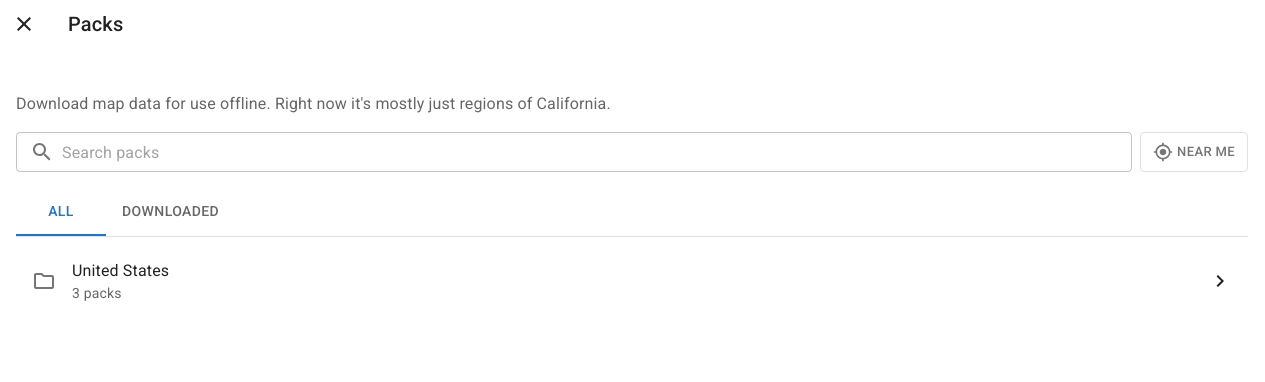
Test case: Packs › when packs are nested › leaves a pack that has packs inside it to be downloaded from inside
The image size is (1265, 382).
Click the text "United States" at (121, 270), box [72, 261, 169, 280]
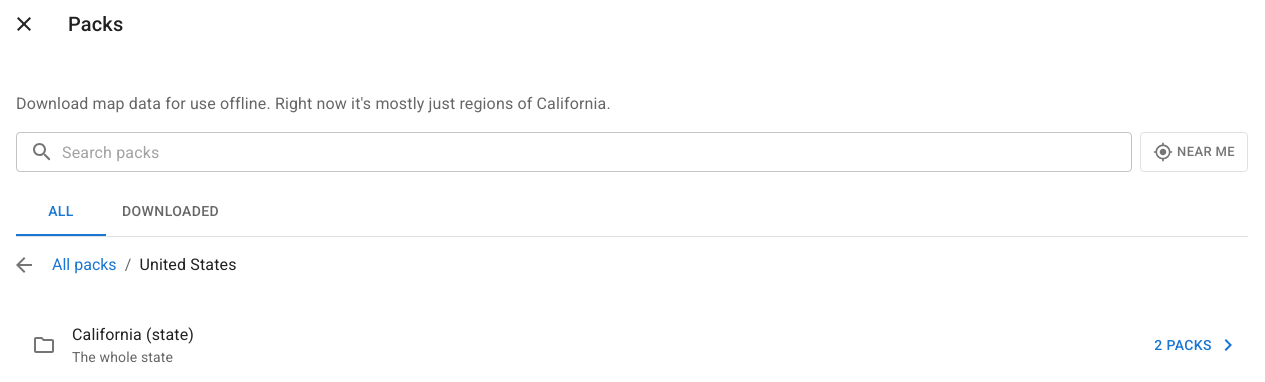
Now the text "California (state)" is shown, box [72, 325, 194, 344]
Now the button with aria-label "Show packs within California (state)" is shown, box [1146, 325, 1244, 365]
